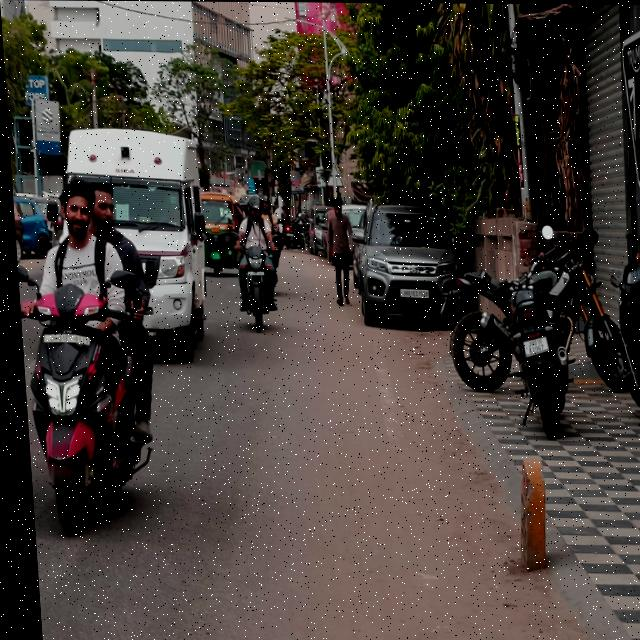bike: (14, 261, 156, 535), (438, 248, 621, 395), (496, 265, 574, 436), (612, 226, 640, 441), (228, 238, 275, 333)
car: (350, 199, 465, 335), (13, 193, 47, 262)
